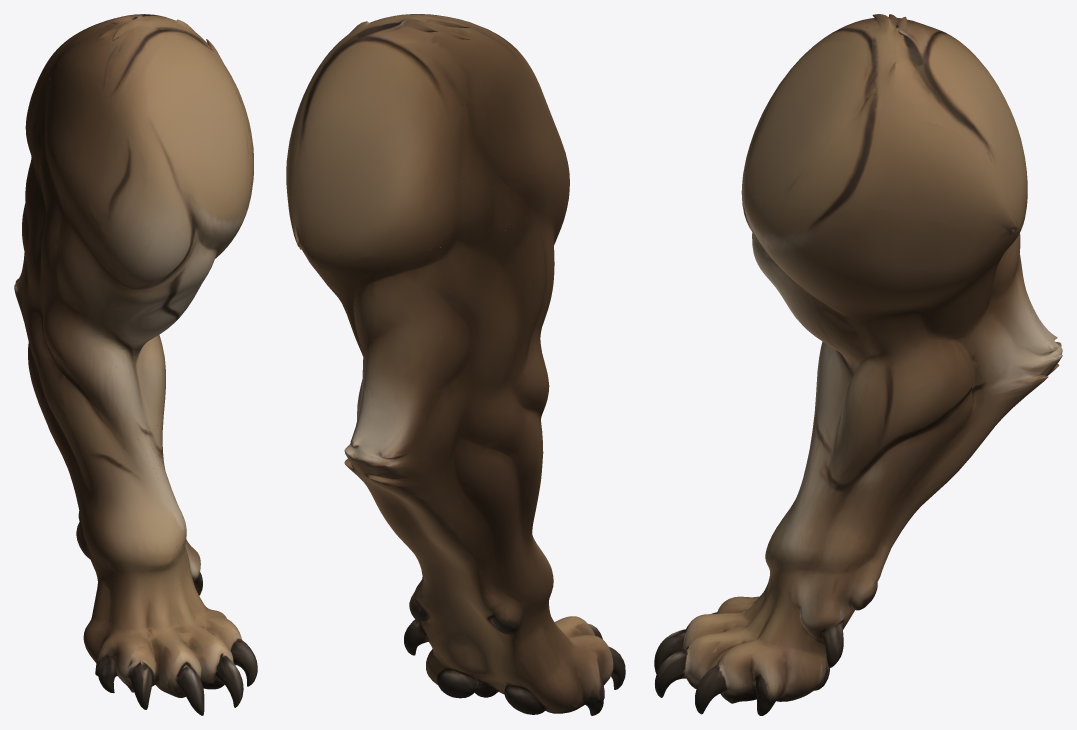
File: huzhua_game.glb
The picture shows the model from 3 angles, left to right: view 1: azimuth 30°, elevation 25°; view 2: azimuth 150°, elevation 25°; view 3: azimuth 270°, elevation 25°; orthographic projection. The views are drawn at different scales.
Visible parts, largest first — view 1: node_0; view 2: node_0; view 3: node_0.
Part boxes in pixels (x1,y1,x2,y2): node_0: [14, 14, 257, 715]; node_0: [286, 14, 625, 715]; node_0: [654, 14, 1062, 715].
Size of the model in its own units: 0.3405 by 1.06 by 0.5772.
Materials: 1 (1 with a texture image).
